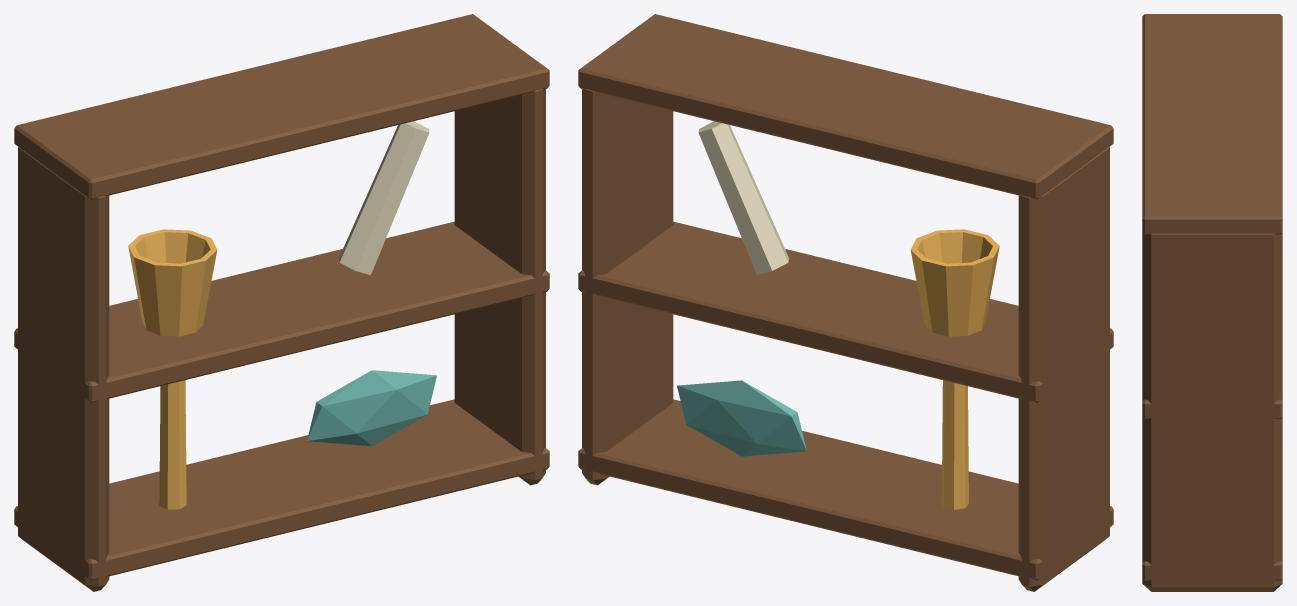
The model's file is CC_TrophyCase.fbx.
3 renders of one model, left to right at view 1: azimuth 30°, elevation 25°; view 2: azimuth 150°, elevation 25°; view 3: azimuth 270°, elevation 25°, orthographic. The views are drawn at different scales.
Parts seen in each view (by area): view 1: Case shelf.002, Case shelf, Case shelf.001, Case side, Case side.001, Trophy cup, Wing scrap, Enemy horn, Cup foot; view 2: Case shelf.002, Case shelf.001, Case side, Case shelf, Case side.001, Trophy cup, Wing scrap, Enemy horn, Cup foot; view 3: Case side.001, Case shelf.002, Case shelf, Case shelf.001.
Boxes of the visible parts, x1,y1,x2,y2 form: Case shelf.002: (14,14,549,199); Case shelf: (14,399,549,580); Case shelf.001: (14,221,549,402); Case side: (18,147,109,591); Case side.001: (454,89,545,485); Trophy cup: (128,229,217,336); Wing scrap: (307,370,436,446); Enemy horn: (338,121,429,275); Cup foot: (159,380,186,509); Case shelf.002: (578,14,1113,199); Case shelf.001: (578,221,1113,402); Case side: (1018,147,1109,591); Case shelf: (578,399,1113,580); Case side.001: (582,89,673,485); Trophy cup: (910,229,999,336); Wing scrap: (677,380,806,456); Enemy horn: (698,121,789,275); Cup foot: (941,380,968,509); Case side.001: (1142,232,1282,591); Case shelf.002: (1142,14,1282,234); Case shelf: (1142,561,1282,580); Case shelf.001: (1142,399,1282,419).
Size of the model in its own units: 1.9 by 1.64 by 0.55.
